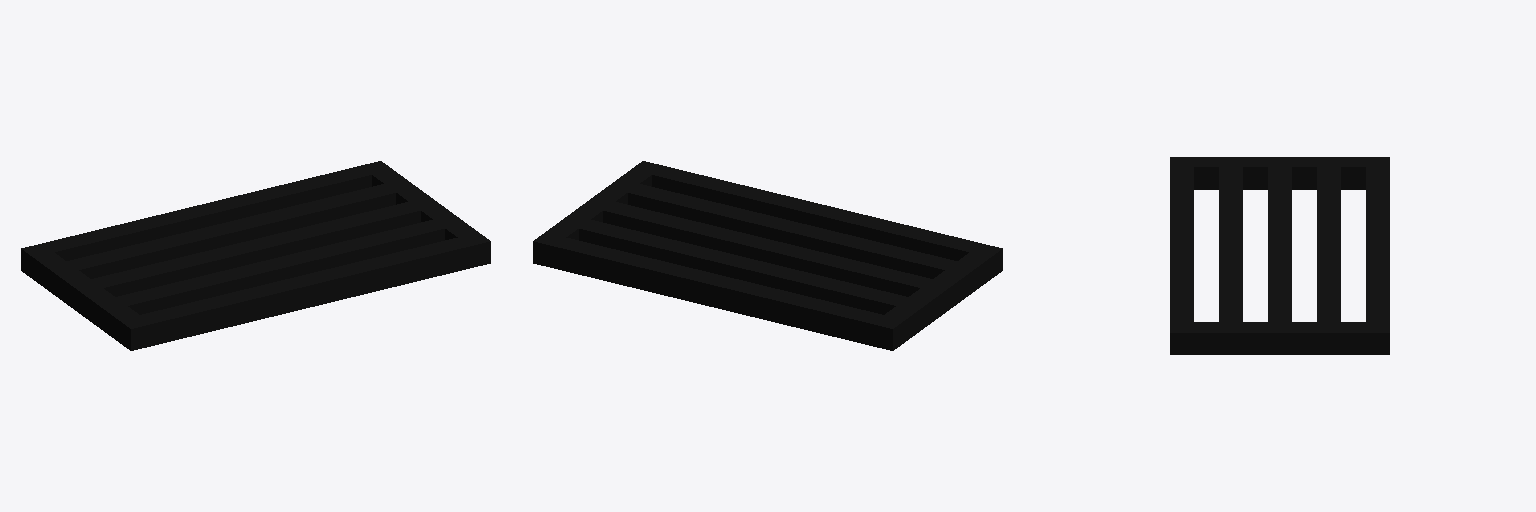
The picture shows the model from 3 angles: view 1: azimuth 30°, elevation 25°; view 2: azimuth 150°, elevation 25°; view 3: azimuth 270°, elevation 25°; orthographic projection.
Parts seen in each view (by area): view 1: group[number redacted], group[number redacted], group[number redacted], group[number redacted], group[number redacted], group[number redacted], group[number redacted]; view 2: group[number redacted], group[number redacted], group[number redacted], group[number redacted], group[number redacted], group[number redacted], group[number redacted]; view 3: group[number redacted], group[number redacted], group[number redacted], group[number redacted], group[number redacted], group[number redacted], group[number redacted].
Boxes of the visible parts, x1=… form: group[number redacted]: x1=141, y1=238, x2=469, y2=345; group[number redacted]: x1=91, y1=202, x2=420, y2=296; group[number redacted]: x1=42, y1=166, x2=371, y2=260; group[number redacted]: x1=116, y1=220, x2=444, y2=314; group[number redacted]: x1=67, y1=184, x2=395, y2=278; group[number redacted]: x1=21, y1=244, x2=151, y2=350; group[number redacted]: x1=361, y1=161, x2=490, y2=267; group[number redacted]: x1=554, y1=238, x2=882, y2=345; group[number redacted]: x1=603, y1=202, x2=932, y2=296; group[number redacted]: x1=652, y1=166, x2=981, y2=260; group[number redacted]: x1=579, y1=220, x2=907, y2=314; group[number redacted]: x1=628, y1=184, x2=956, y2=278; group[number redacted]: x1=872, y1=244, x2=1002, y2=350; group[number redacted]: x1=533, y1=161, x2=662, y2=267; group[number redacted]: x1=1170, y1=322, x2=1389, y2=354; group[number redacted]: x1=1170, y1=157, x2=1389, y2=189; group[number redacted]: x1=1366, y1=167, x2=1389, y2=321; group[number redacted]: x1=1219, y1=167, x2=1242, y2=321; group[number redacted]: x1=1268, y1=167, x2=1291, y2=321; group[number redacted]: x1=1317, y1=167, x2=1340, y2=321; group[number redacted]: x1=1170, y1=167, x2=1193, y2=321.
Size of the model in its own units: 0.17 by 0.01 by 0.09.